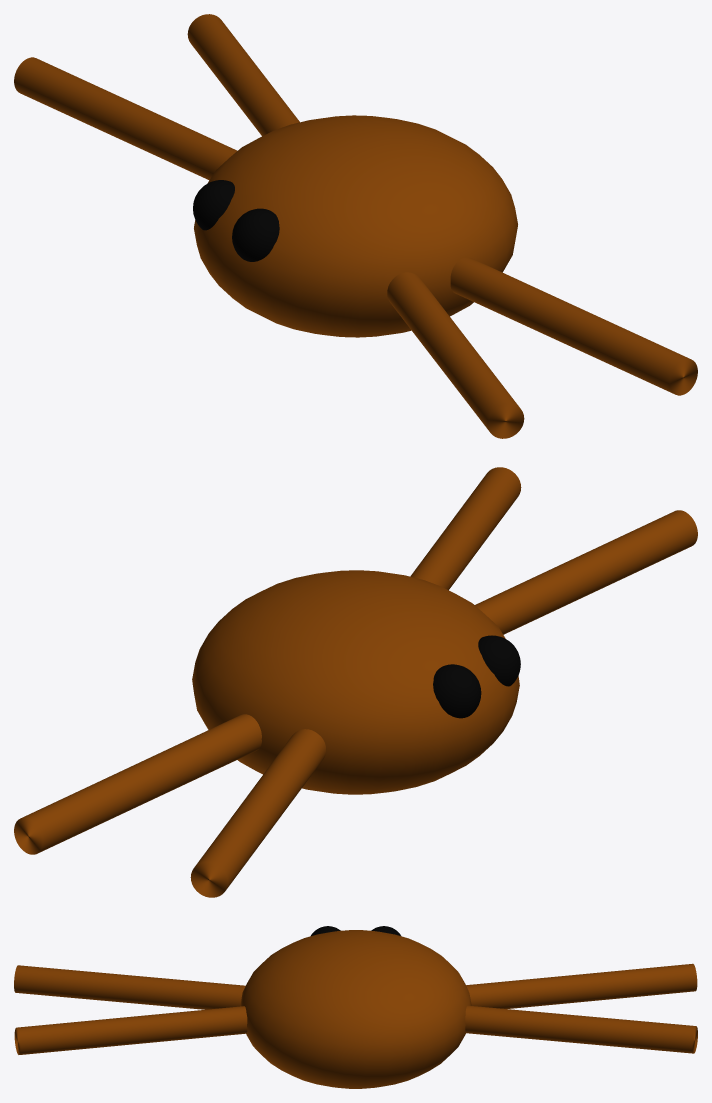
The picture shows the model from 3 angles, top to bottom: view 1: azimuth 30°, elevation 25°; view 2: azimuth 150°, elevation 25°; view 3: azimuth 270°, elevation 25°; orthographic projection. The views are drawn at different scales.
Parts seen in each view (by area): view 1: Sphere, Cylinder.004, Cylinder.002, Sphere.002, Sphere.001; view 2: Sphere, Cylinder.002, Cylinder.004, Sphere.001, Sphere.002; view 3: Sphere, Cylinder.002, Cylinder.004.
Boxes of the visible parts, <box> form: Sphere: <box>194,115,517,337</box>; Cylinder.004: <box>14,57,697,395</box>; Cylinder.002: <box>187,14,524,438</box>; Sphere.002: <box>232,208,279,261</box>; Sphere.001: <box>193,180,234,230</box>; Sphere: <box>192,570,519,794</box>; Cylinder.002: <box>14,510,697,854</box>; Cylinder.004: <box>190,467,521,897</box>; Sphere.001: <box>433,664,481,718</box>; Sphere.002: <box>478,635,520,686</box>; Sphere: <box>240,930,471,1088</box>; Cylinder.002: <box>14,965,697,1053</box>; Cylinder.004: <box>14,963,697,1054</box>.
Size of the model in its own units: 0.6673 by 0.4 by 1.97.
